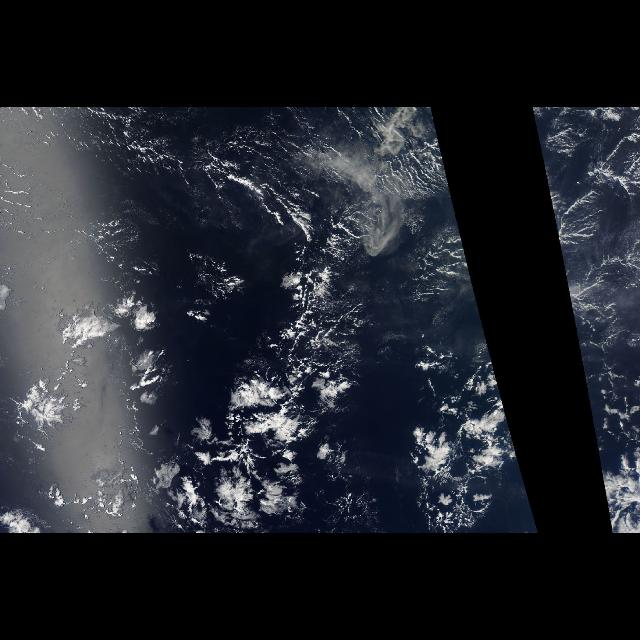Fish: (160, 263, 386, 533)
Flower: (7, 281, 523, 533)
Gravel: (178, 140, 330, 244)
